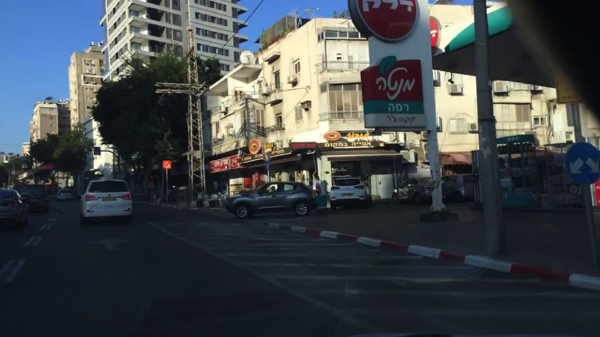car: (226, 181, 317, 219), (81, 178, 134, 220), (392, 178, 450, 206), (328, 177, 373, 212), (0, 189, 30, 227), (440, 175, 477, 205), (22, 184, 50, 214), (12, 184, 28, 198), (58, 189, 74, 201)
person: (310, 170, 321, 192)
traffic sign: (563, 142, 599, 184), (249, 138, 261, 155), (262, 152, 270, 163), (162, 161, 171, 169), (94, 147, 101, 156), (147, 181, 154, 189), (152, 164, 159, 170), (266, 163, 270, 171), (11, 169, 16, 175)
